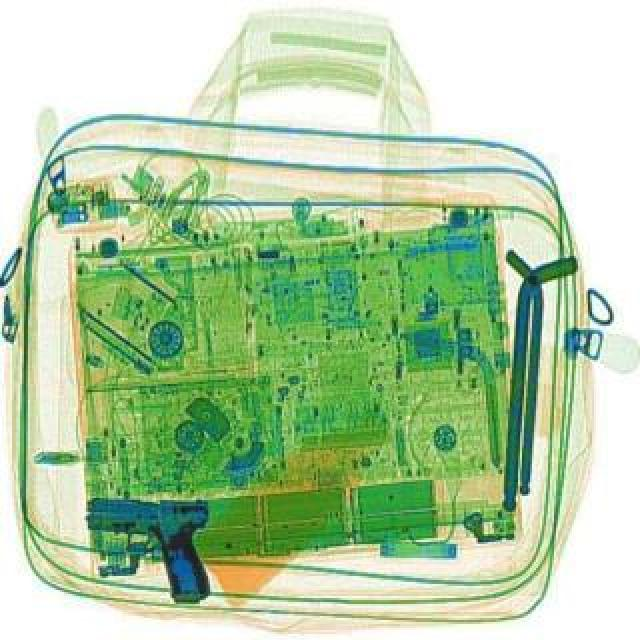gun: (76, 492, 212, 600)
